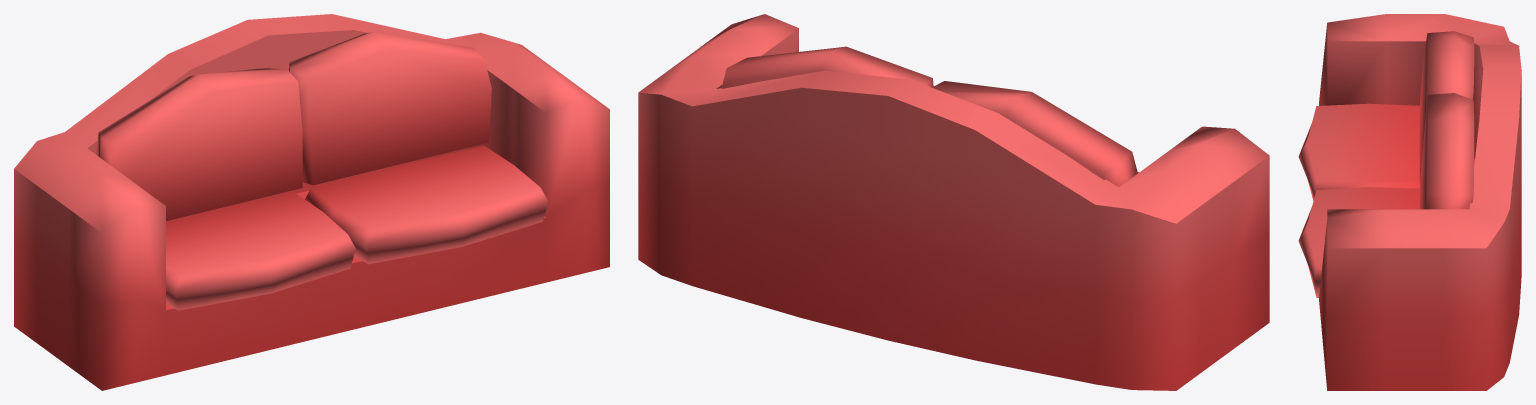
The model's file is Prop_Couch03.fbx.
3 views of the same model, side by side, from view 1: azimuth 30°, elevation 25°; view 2: azimuth 150°, elevation 25°; view 3: azimuth 270°, elevation 25° (orthographic). The views are drawn at different scales.
Parts seen in each view (by area): view 1: Prop_CouchFrame, Prop_CouchCusion04, Prop_CouchCusion03, Prop_CouchCusion02, Prop_CouchCusion01; view 2: Prop_CouchFrame, Prop_CouchCusion03, Prop_CouchCusion04; view 3: Prop_CouchFrame, Prop_CouchCusion01, Prop_CouchCusion04, Prop_CouchCusion02, Prop_CouchCusion03.
Part boxes in pixels (<box>): Prop_CouchFrame: <box>14,14,609,390</box>; Prop_CouchCusion04: <box>289,31,491,185</box>; Prop_CouchCusion03: <box>96,68,302,221</box>; Prop_CouchCusion02: <box>305,145,548,264</box>; Prop_CouchCusion01: <box>166,192,355,310</box>; Prop_CouchFrame: <box>638,14,1269,390</box>; Prop_CouchCusion03: <box>932,81,1137,187</box>; Prop_CouchCusion04: <box>722,46,933,88</box>; Prop_CouchFrame: <box>1319,14,1521,390</box>; Prop_CouchCusion01: <box>1298,103,1419,200</box>; Prop_CouchCusion04: <box>1419,93,1474,209</box>; Prop_CouchCusion02: <box>1298,187,1419,297</box>; Prop_CouchCusion03: <box>1419,31,1474,183</box>.
Size of the model in its own units: 600 by 261 by 252.
